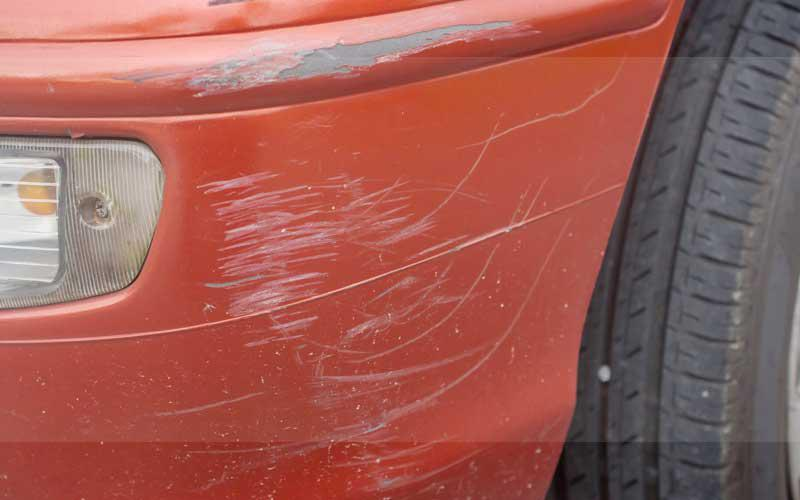front-bumper-dent: (0, 0, 729, 499)
